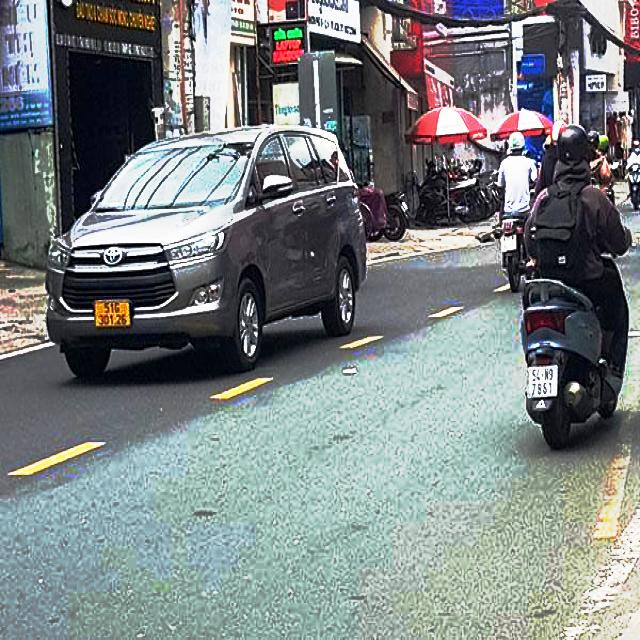license_plate: (529, 366, 561, 399), (95, 301, 133, 328)
